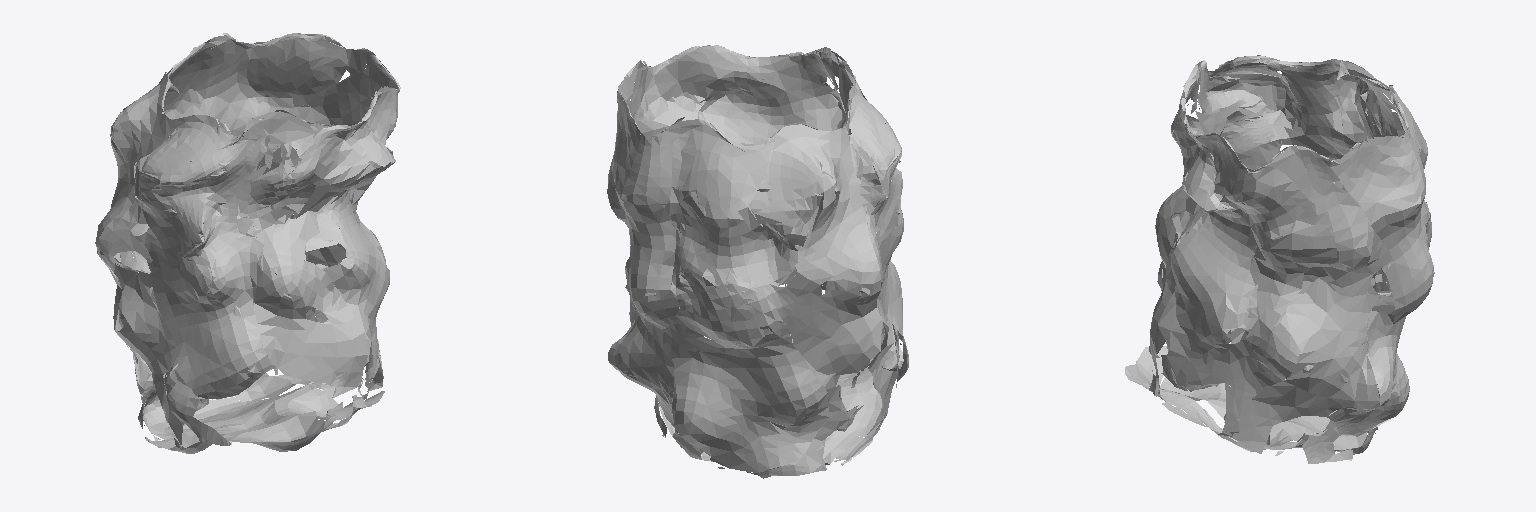
Rendered from junk6.obj.
3 views of the same model, side by side, from view 1: azimuth 30°, elevation 25°; view 2: azimuth 150°, elevation 25°; view 3: azimuth 270°, elevation 25° (orthographic).
Parts seen in each view (by area): view 1: Retopo_mesh.001; view 2: Retopo_mesh.001; view 3: Retopo_mesh.001.
Boxes of the visible parts, x1,y1,x2,y2 form: Retopo_mesh.001: [95, 33, 400, 453]; Retopo_mesh.001: [607, 45, 908, 478]; Retopo_mesh.001: [1125, 55, 1434, 463].
Bounding box in the file's own units: 0.1313 × 0.1685 × 0.1301.